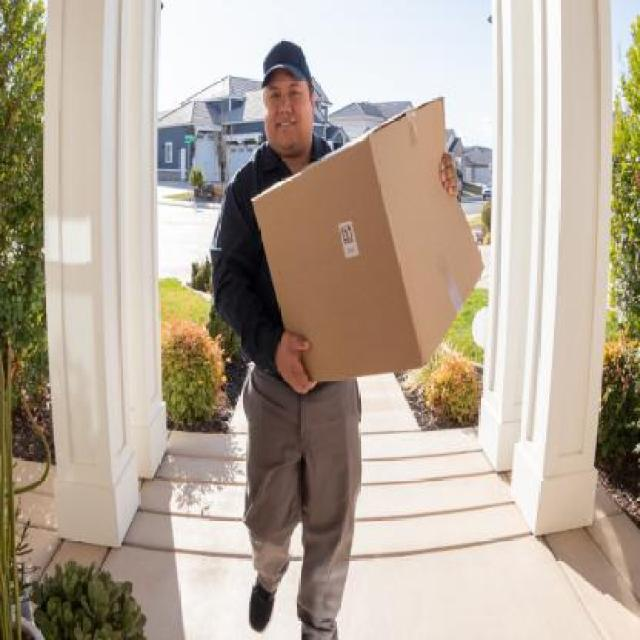cardboxes: (251, 93, 486, 389)
